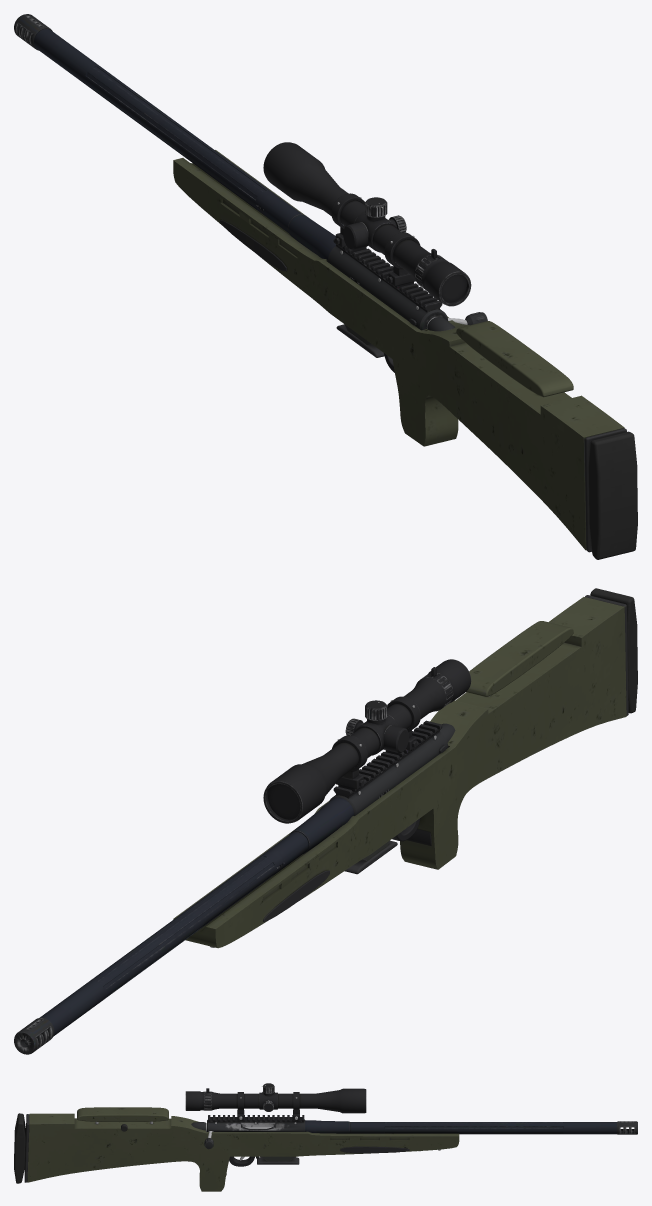
Rendered from sniper.glb.
3 views of the same model, one above another, from view 1: azimuth 30°, elevation 25°; view 2: azimuth 150°, elevation 25°; view 3: azimuth 270°, elevation 25° (orthographic). The views are drawn at different scales.
Parts seen in each view (by area): view 1: body; view 2: body; view 3: body, mag, bolt.
Boxes of the visible parts, left/top/right/bottom form: body: left=14, top=14, right=637, bottom=559; body: left=14, top=588, right=637, bottom=1054; body: left=14, top=1083, right=637, bottom=1191; mag: left=257, top=1156, right=299, bottom=1164; bolt: left=191, top=1122, right=271, bottom=1148.
Bounding box in the file's own units: 0.0973 × 0.227 × 1.26.
Materials: 15 (15 with a texture image).
